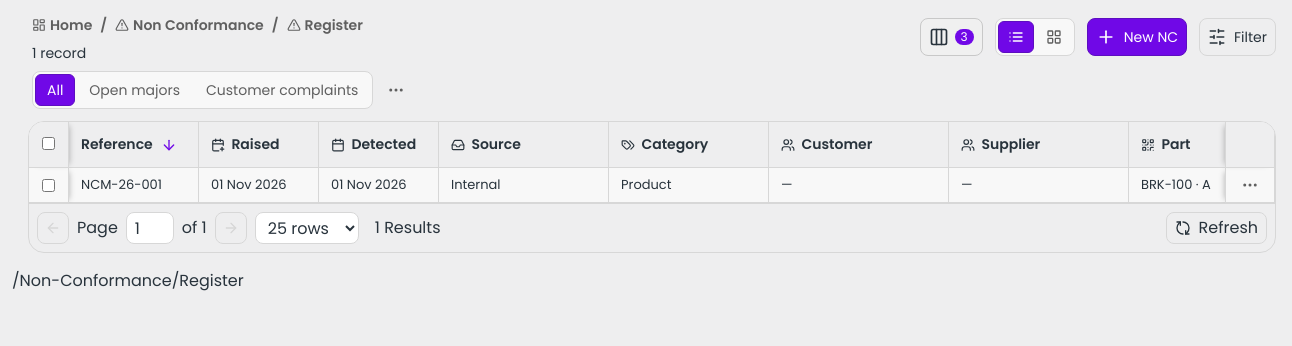
Test case: NC registers › saved filters › show the person's own filters after All, and one click applies it to the URL and the list
Expected: the text "NCM-26-001" is shown, top-left (77, 175), bottom-right (166, 195)
Click the tab "Open majors": (135, 90) top-left (77, 74), bottom-right (192, 106)
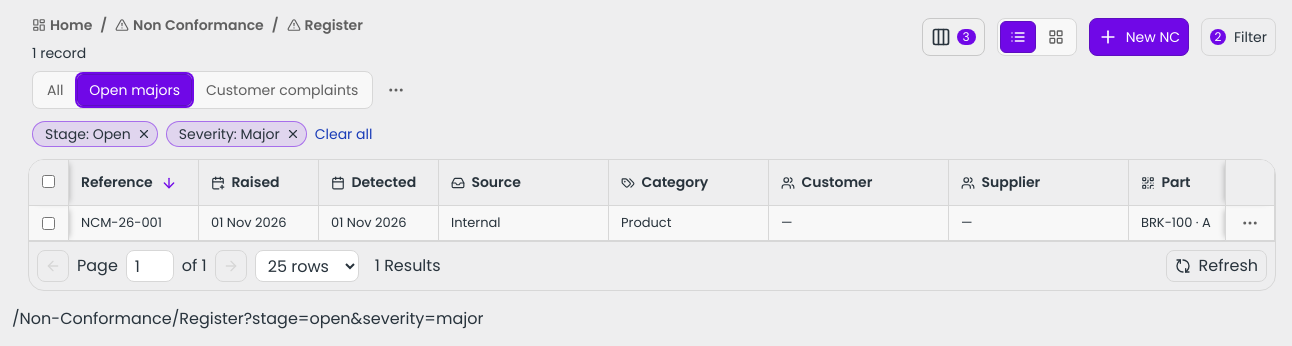
Now the tab "Open majors" is selected, box top-left (77, 74), bottom-right (192, 106)
Now the tab "All" is not selected, box top-left (35, 74), bottom-right (75, 106)
Choosing another replaces what the first had chosen.
Click the tab "Customer complaints": (282, 90) top-left (194, 74), bottom-right (370, 106)
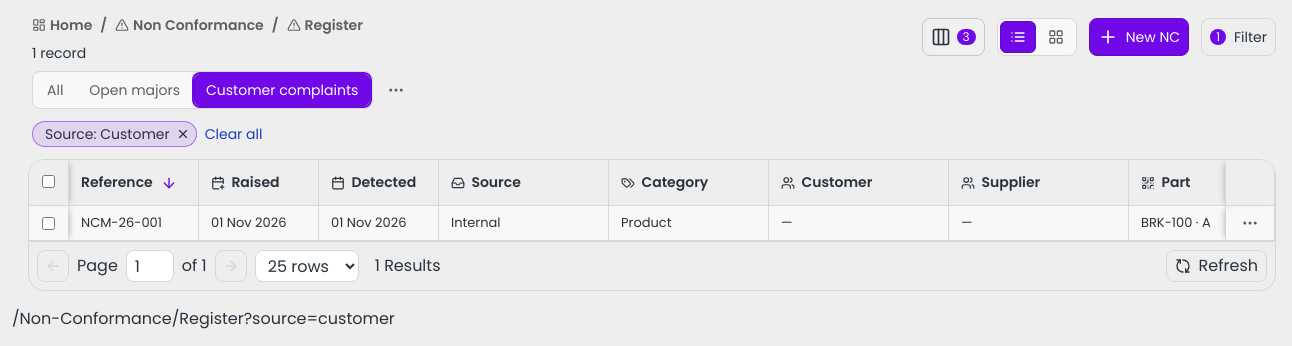
Click the tab "All": (55, 90) top-left (35, 74), bottom-right (75, 106)
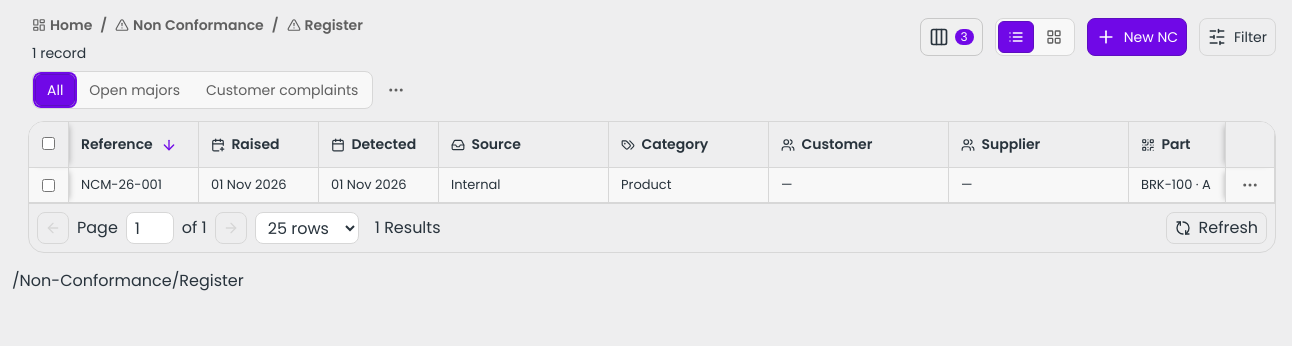
Now the text with test id "where" reads "/Non-Conformance/Register", box top-left (12, 269), bottom-right (244, 292)
